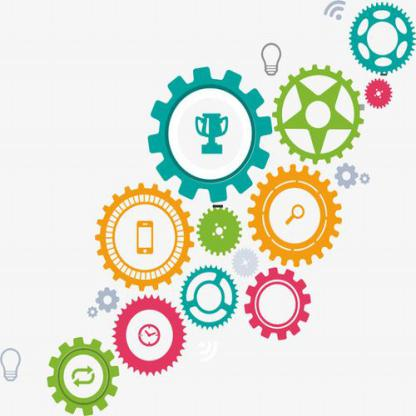FOD: (245, 162, 344, 270), (110, 293, 187, 377)
